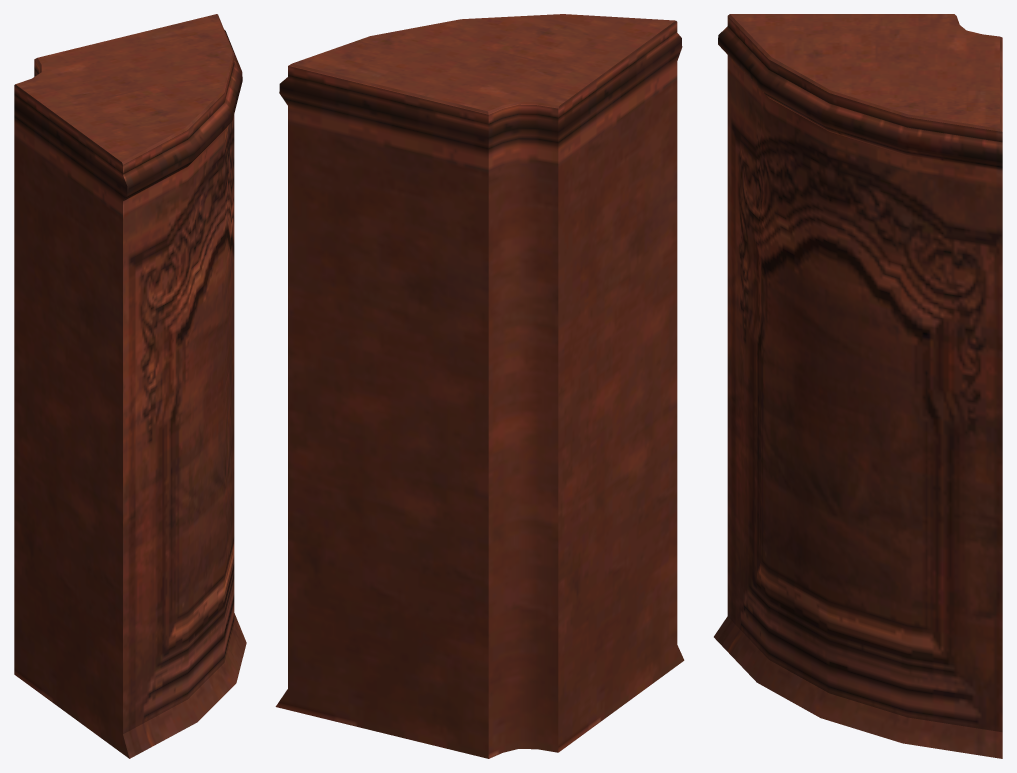
Rendered from bookcase_low_corner01.DAE.
The picture shows the model from 3 angles, left to right: view 1: azimuth 30°, elevation 25°; view 2: azimuth 150°, elevation 25°; view 3: azimuth 270°, elevation 25°; orthographic projection. The views are drawn at different scales.
Visible parts, largest first — view 1: Object002; view 2: Object002; view 3: Object002.
Boxes of the visible parts, x1,y1,x2,y2 form: Object002: (14, 14, 246, 758); Object002: (275, 14, 684, 758); Object002: (714, 14, 1002, 758).
Bounding box in the file's own units: 0.6297 × 1.5 × 0.6308.
